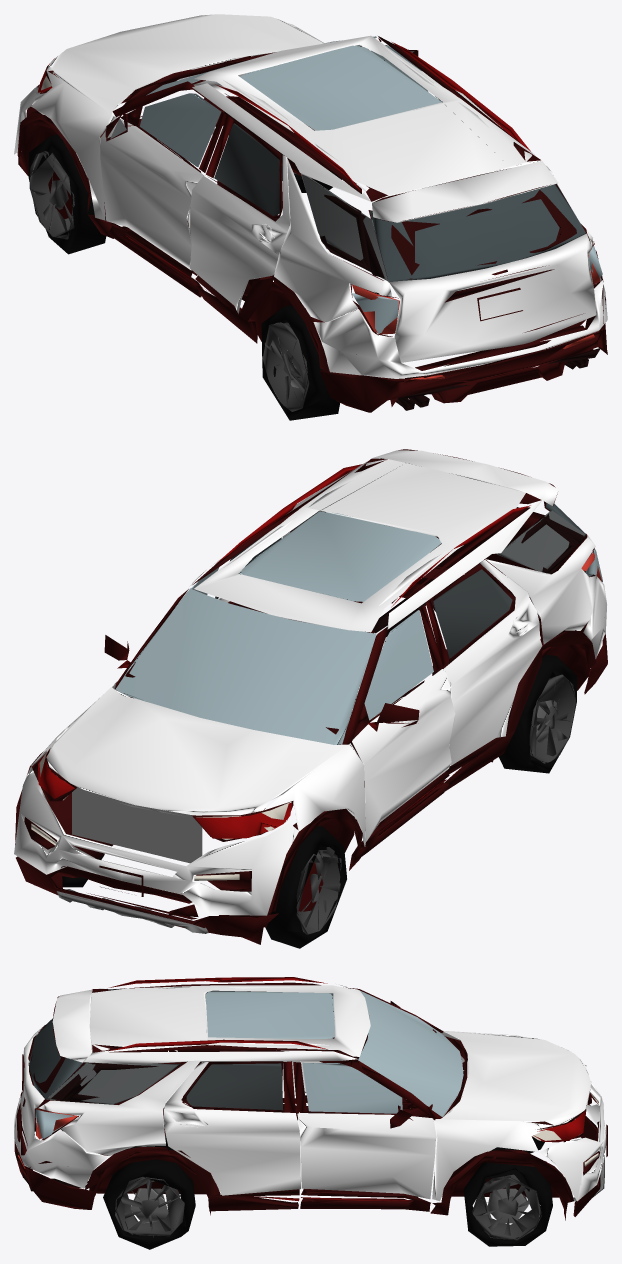
Rendered from suv-far.glb.
3 views of the same model, one above another, from view 1: azimuth 30°, elevation 25°; view 2: azimuth 150°, elevation 25°; view 3: azimuth 270°, elevation 25° (orthographic). The views are drawn at different scales.
Visible parts, largest first — view 1: paint, det; view 2: det, paint; view 3: paint, det.
Boxes of the visible parts, left/top/right/bottom form: paint: left=14, top=14, right=607, bottom=378; det: left=17, top=36, right=607, bottom=420; det: left=15, top=449, right=607, bottom=948; paint: left=14, top=450, right=606, bottom=915; paint: left=14, top=985, right=606, bottom=1201; det: left=14, top=977, right=607, bottom=1249.
Bounding box in the file's own units: 2.24 × 1.71 × 4.8.
